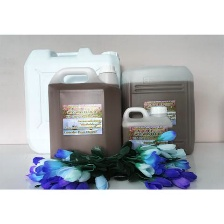cleaning_solution: (20, 47, 122, 156), (45, 62, 123, 166), (118, 63, 197, 158), (119, 103, 175, 171)
